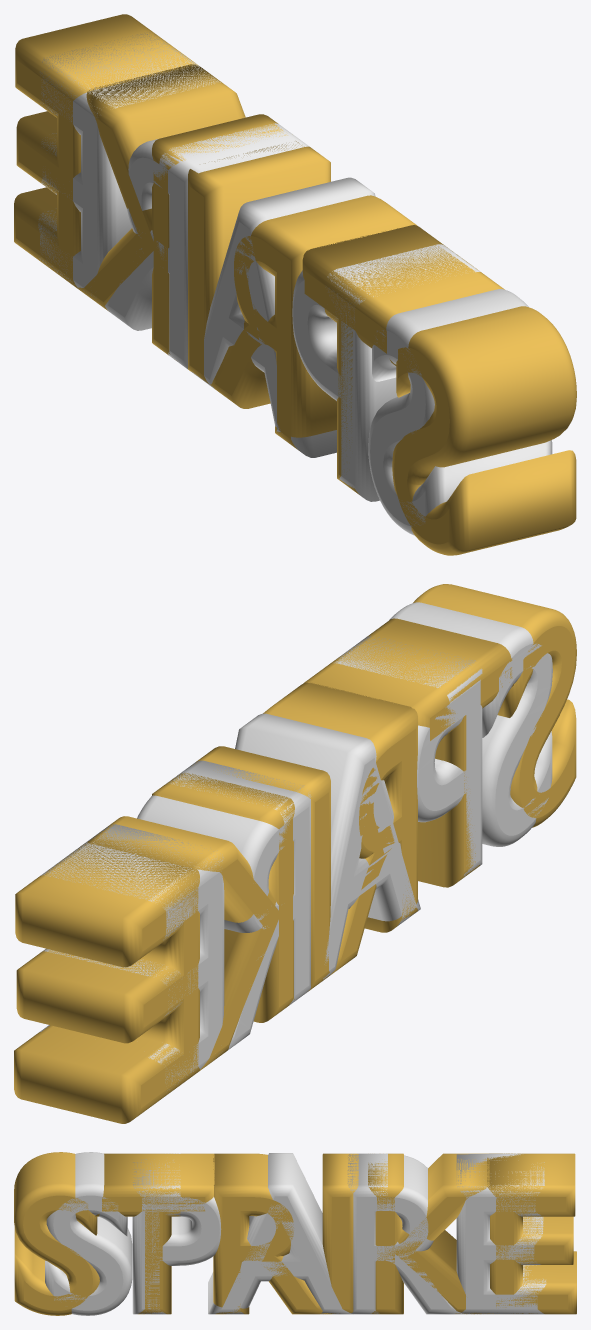
File: AlleyTexts.fbx
3 renders of one model, top to bottom at view 1: azimuth 30°, elevation 25°; view 2: azimuth 150°, elevation 25°; view 3: azimuth 270°, elevation 25°, orthographic. The views are drawn at different scales.
Parts seen in each view (by area): view 1: Strike, Spare; view 2: Strike, Spare; view 3: Strike, Spare.
Boxes of the visible parts, box(x1,y1,x2,y2) form: Strike: box(14, 14, 576, 555); Spare: box(38, 33, 552, 535); Strike: box(14, 584, 576, 1123); Spare: box(39, 602, 552, 1090); Strike: box(14, 1152, 576, 1315); Spare: box(45, 1152, 546, 1315).
Size of the model in its own units: 25.31 by 157 by 40.51.
